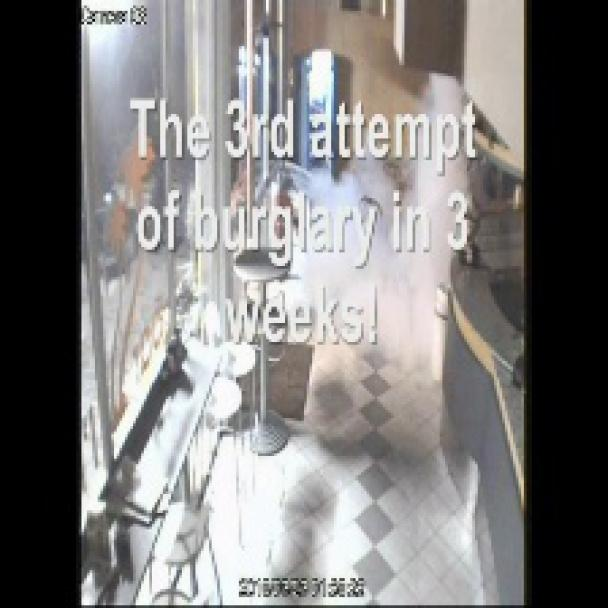smoke: (264, 74, 501, 372)
